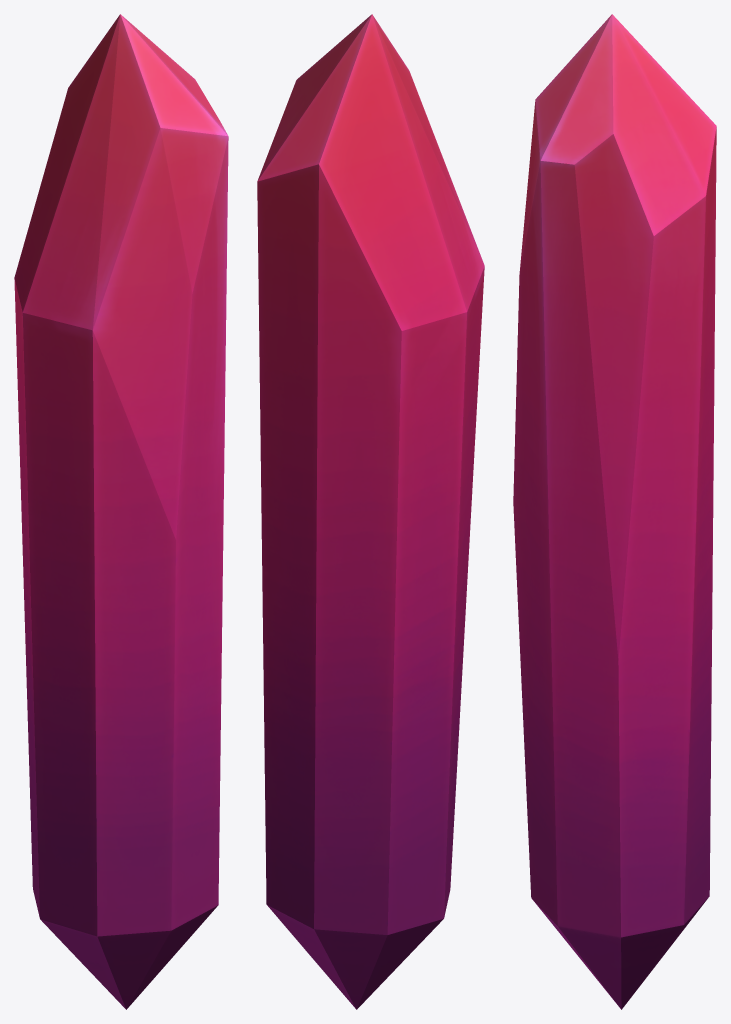
Rendered from Crystal2.fbx.
3 views of the same model, side by side, from view 1: azimuth 30°, elevation 25°; view 2: azimuth 150°, elevation 25°; view 3: azimuth 270°, elevation 25° (orthographic).
Parts seen in each view (by area): view 1: Crystal2; view 2: Crystal2; view 3: Crystal2.
Part boxes in pixels (<box>): Crystal2: <box>14,14,228,1009</box>; Crystal2: <box>257,14,484,1009</box>; Crystal2: <box>513,14,716,1009</box>.
Bounding box in the file's own units: 156 × 779 × 145.
Materials: 1 (1 with a texture image).
